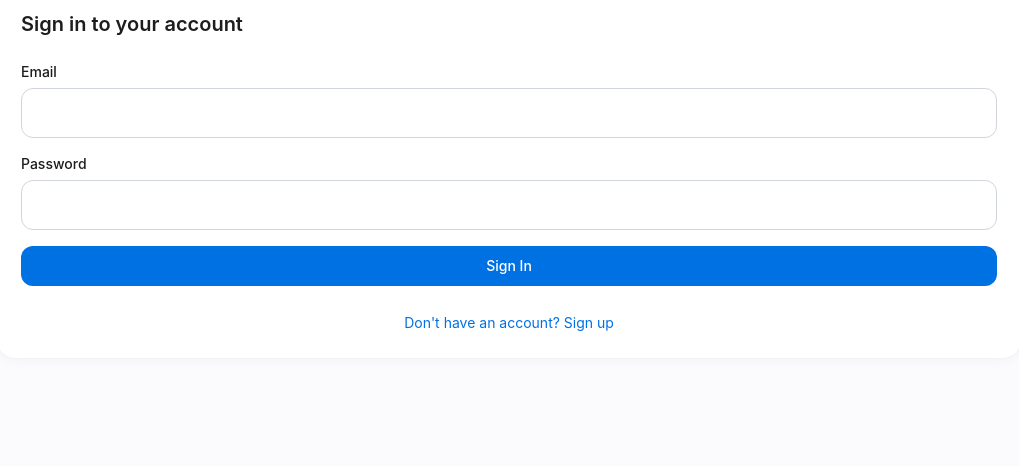
Test: LoginPage › Sign Up Form › shows error when passwords do not match
Click the button "Don't have an account? Sign up": (509, 323) left=404, top=313, right=614, bottom=333
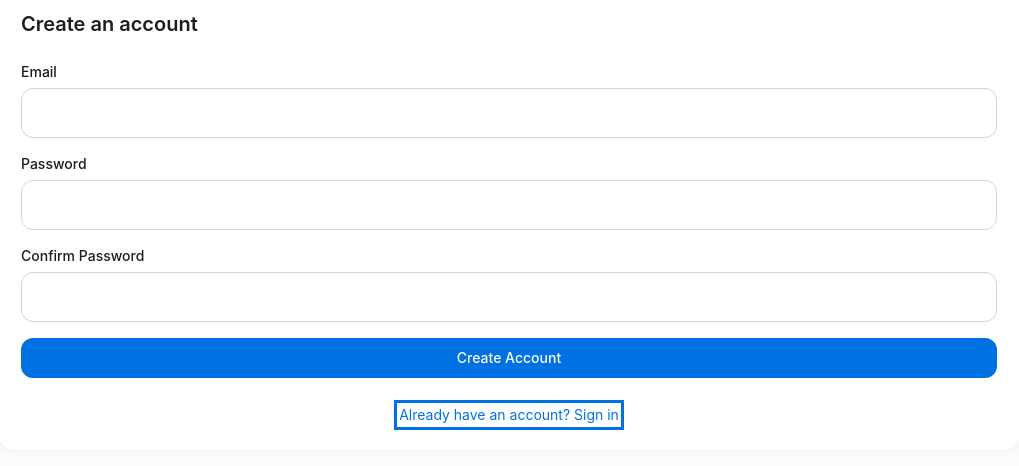
In the field labelled "Email": (509, 113) left=21, top=88, right=997, bottom=138, type "test@example.com"
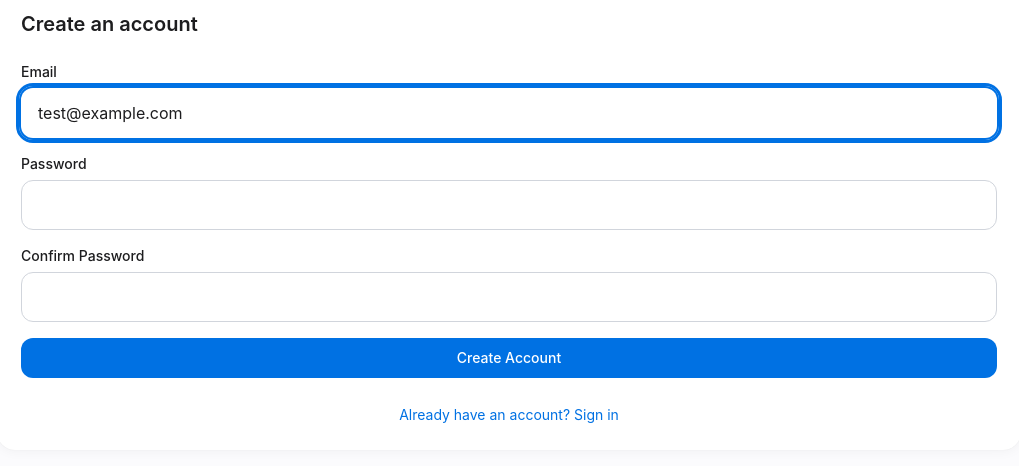
In the password field labelled "Password": (509, 205) left=21, top=180, right=997, bottom=230, type "password123"
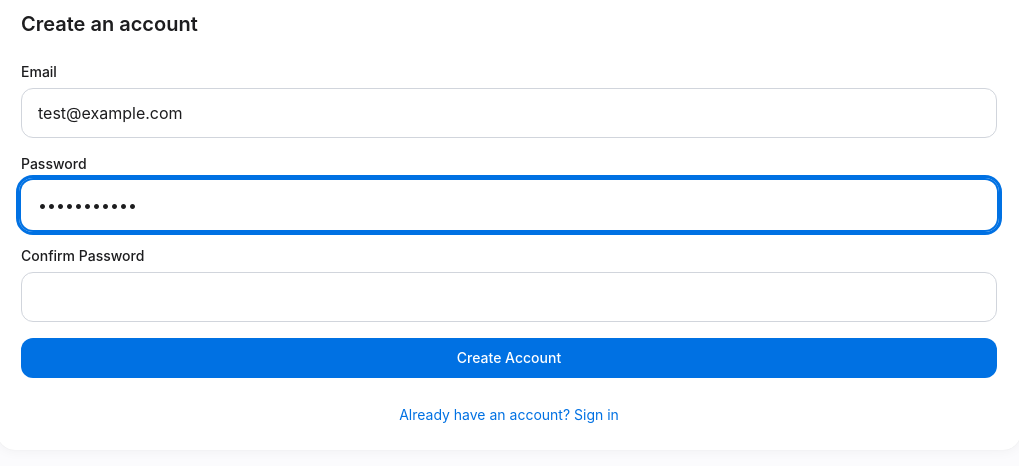
In the password field labelled "Confirm Password": (509, 297) left=21, top=272, right=997, bottom=322, type "differentpassword"
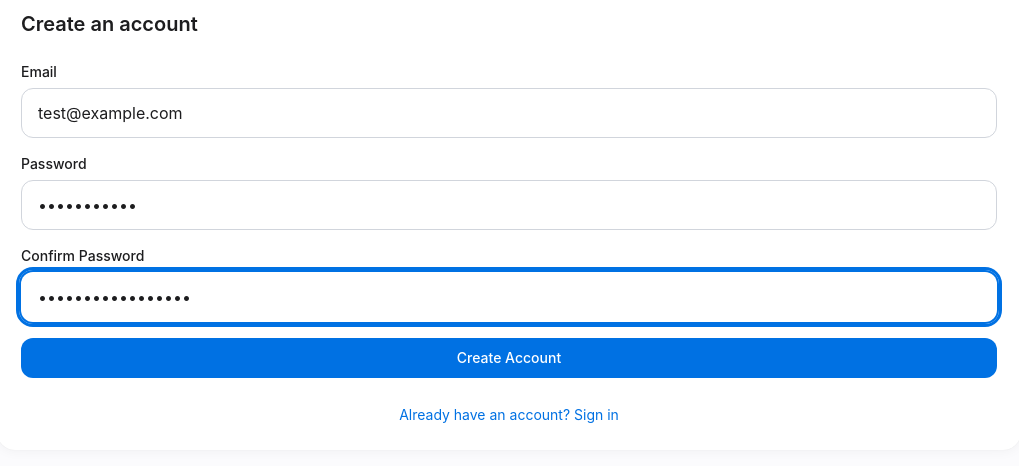
Click the button "Create Account": (509, 358) left=21, top=338, right=997, bottom=378
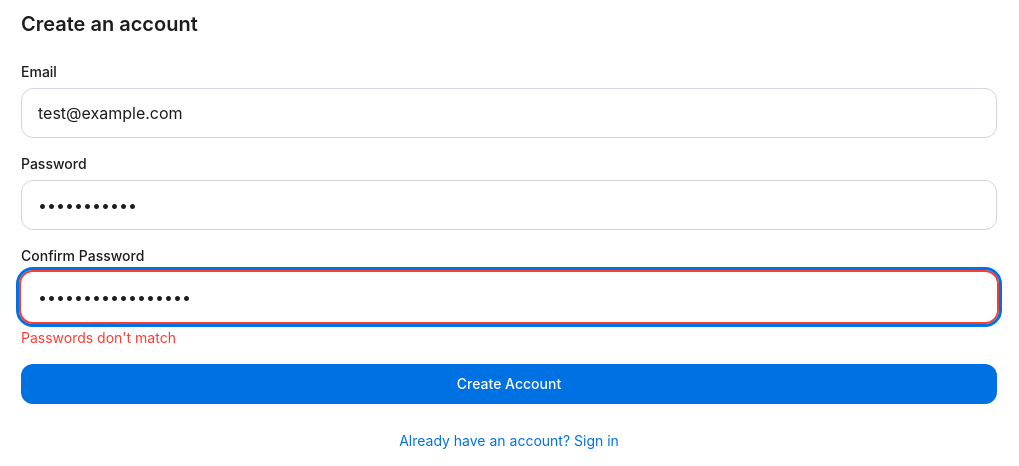
Expected: the text "Passwords don't match" is shown, left=21, top=329, right=176, bottom=346
